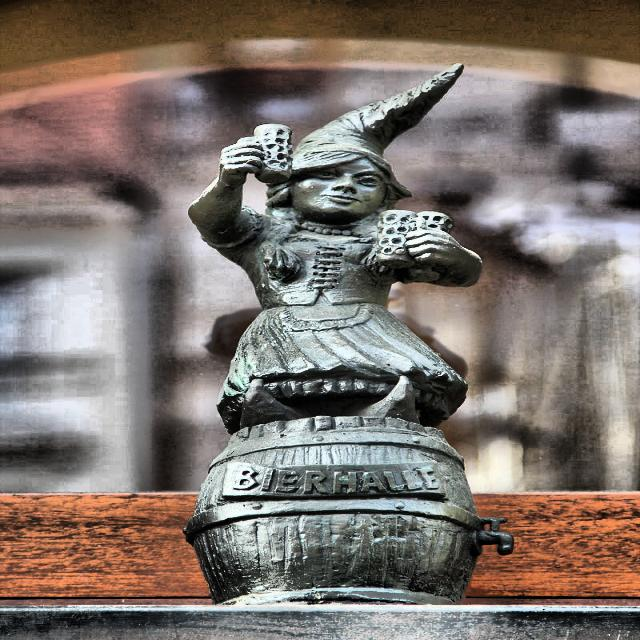Bawarka: (186, 65, 514, 604)
